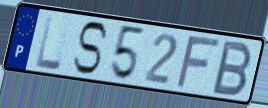2: (142, 32, 178, 87)
5: (107, 24, 148, 82)
B: (209, 39, 254, 98)
F: (173, 35, 224, 90)
L: (34, 13, 63, 72)
S: (71, 20, 110, 77)
